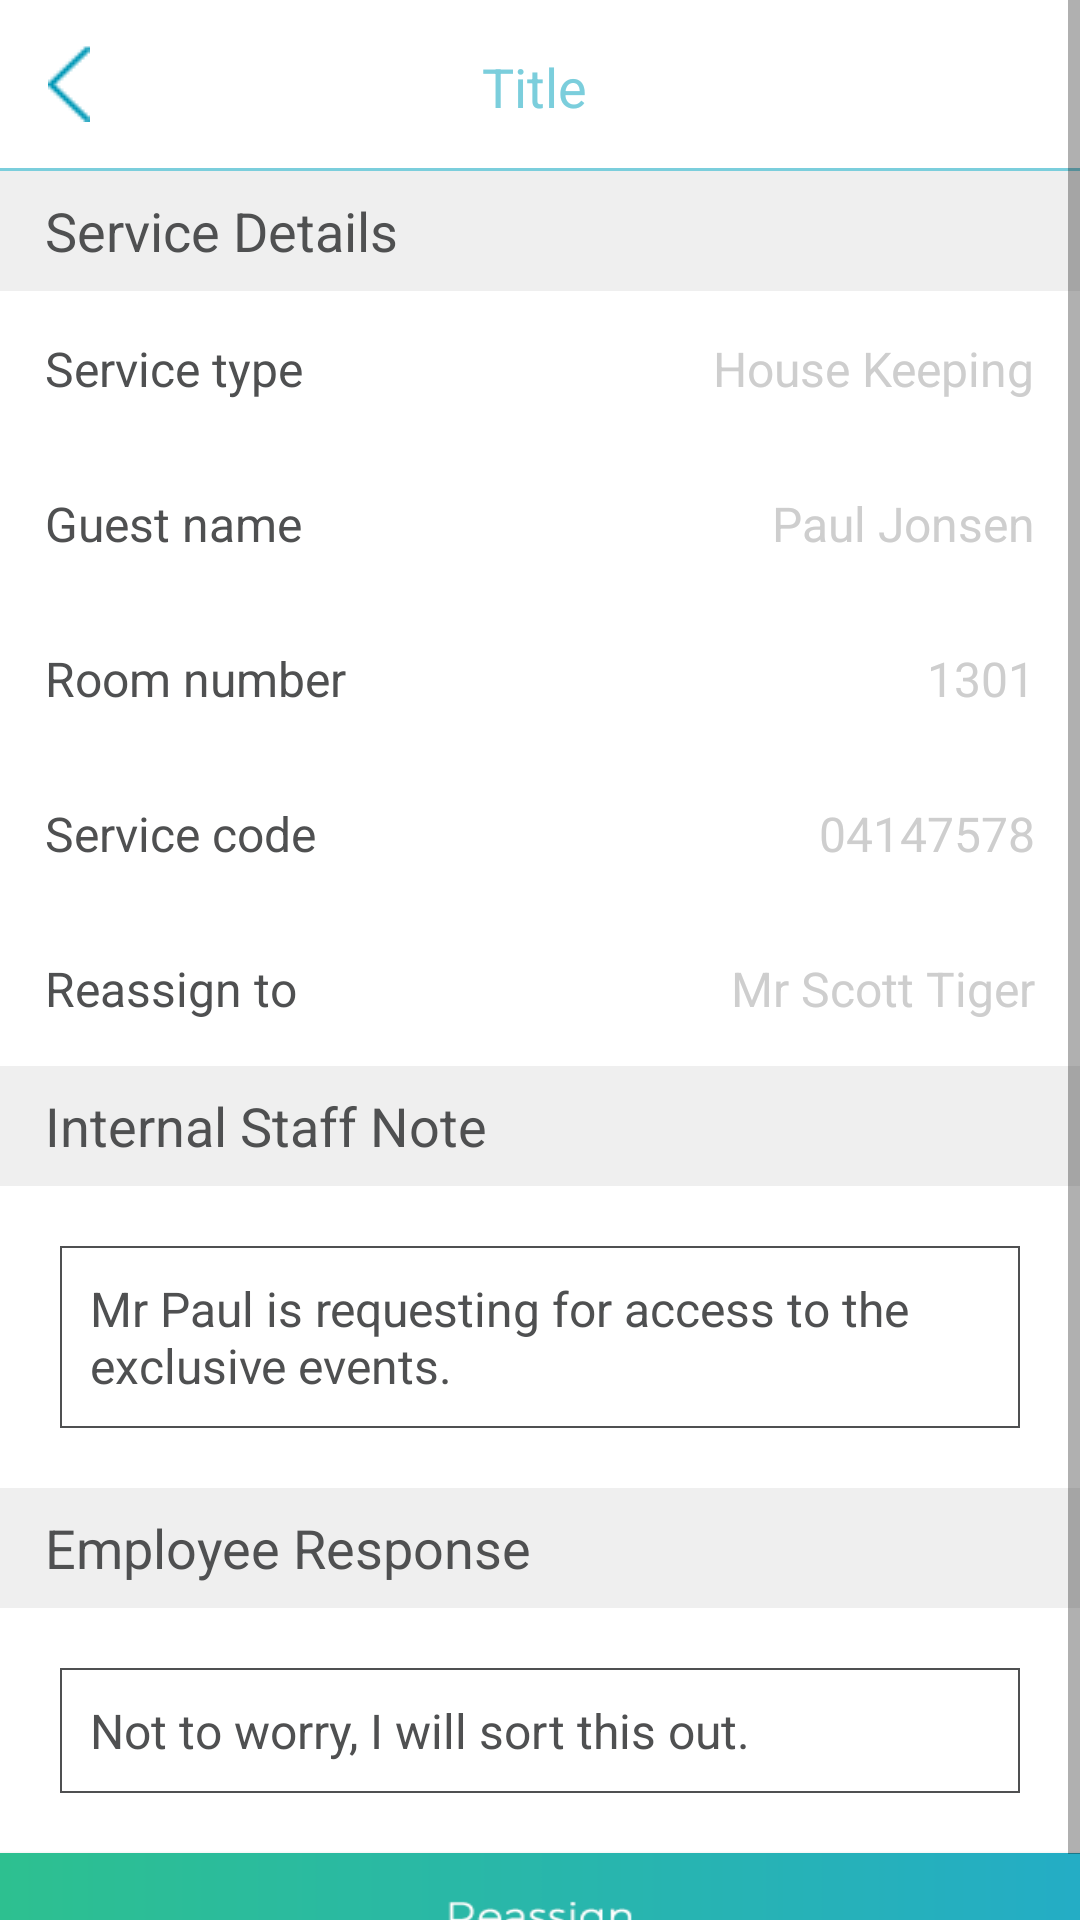

Icon click points for this 1080px x 1920px phone screenshot, format (x,y):
left arrow: (69,84)
